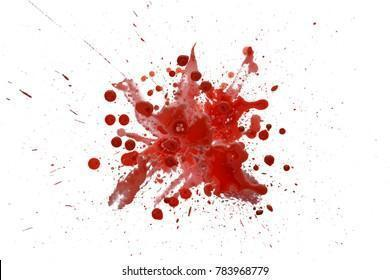knife: (204, 142, 251, 194), (108, 162, 150, 210), (156, 104, 189, 143), (211, 113, 243, 144), (203, 88, 233, 116), (189, 115, 212, 147), (155, 136, 184, 157), (178, 143, 200, 165), (246, 114, 260, 139), (136, 101, 153, 117), (234, 95, 249, 113), (120, 151, 139, 165), (164, 156, 179, 170), (251, 183, 268, 195), (104, 89, 117, 103), (243, 46, 253, 64), (87, 157, 100, 170), (163, 197, 178, 208), (179, 188, 192, 200), (255, 99, 269, 110), (124, 139, 136, 151), (104, 114, 116, 126), (199, 81, 211, 93), (151, 208, 163, 220), (126, 133, 142, 142), (111, 136, 122, 149), (118, 113, 129, 126), (177, 55, 188, 66), (203, 184, 212, 197), (190, 71, 201, 81), (264, 155, 274, 166), (248, 63, 258, 74), (259, 130, 269, 140), (117, 128, 126, 137), (278, 127, 287, 135), (283, 164, 290, 172), (266, 204, 273, 212), (155, 85, 162, 92), (271, 84, 278, 91), (266, 123, 272, 131), (249, 101, 255, 109), (155, 178, 163, 184), (140, 75, 146, 82), (147, 89, 153, 96), (148, 71, 155, 77), (169, 70, 175, 77), (253, 164, 259, 171)
